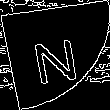N_N: (27, 26, 83, 84)
